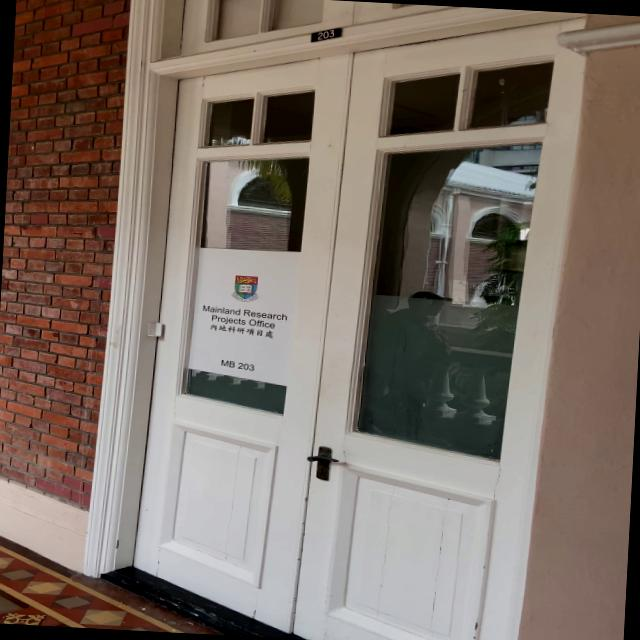room203: (312, 25, 342, 44)
room203Window: (217, 356, 258, 372)
